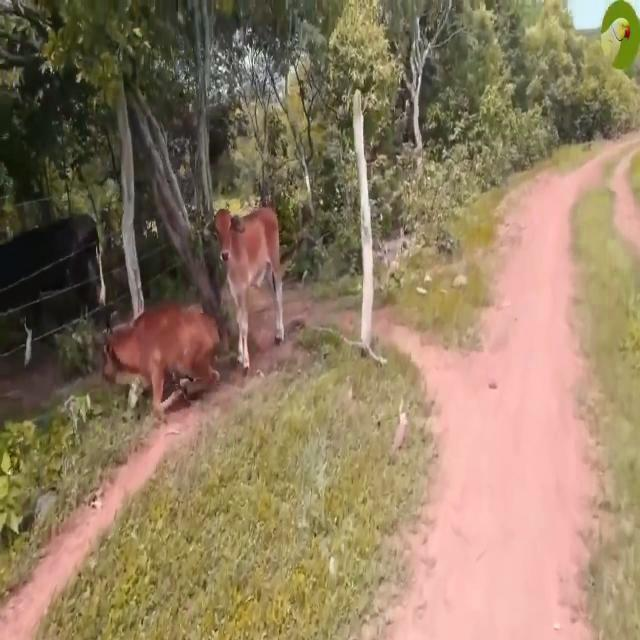cow: (105, 305, 219, 417), (215, 208, 284, 369)
